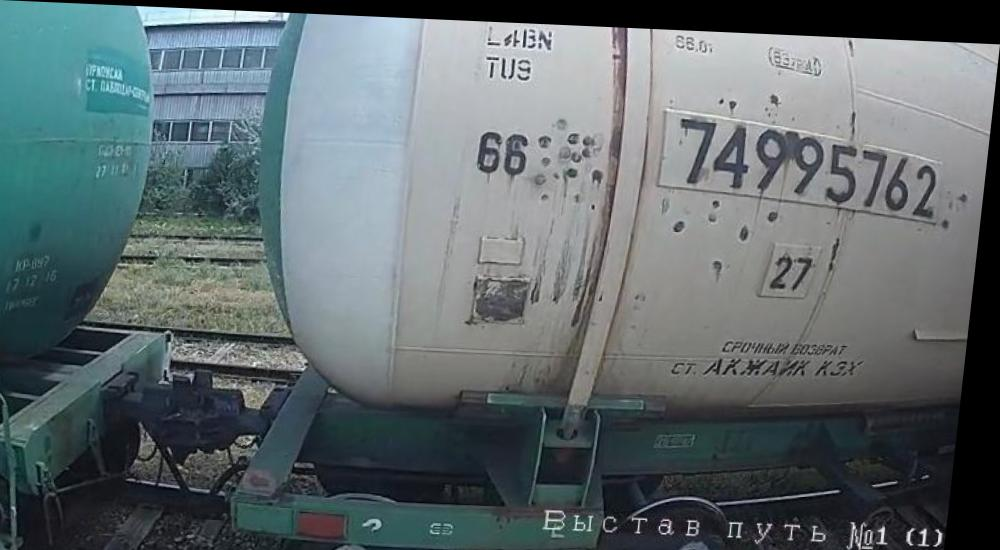Wagon-number: (668, 107, 952, 217)
